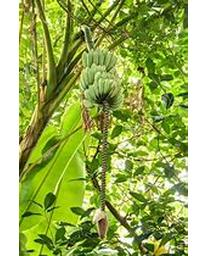banana: (81, 47, 125, 109)
